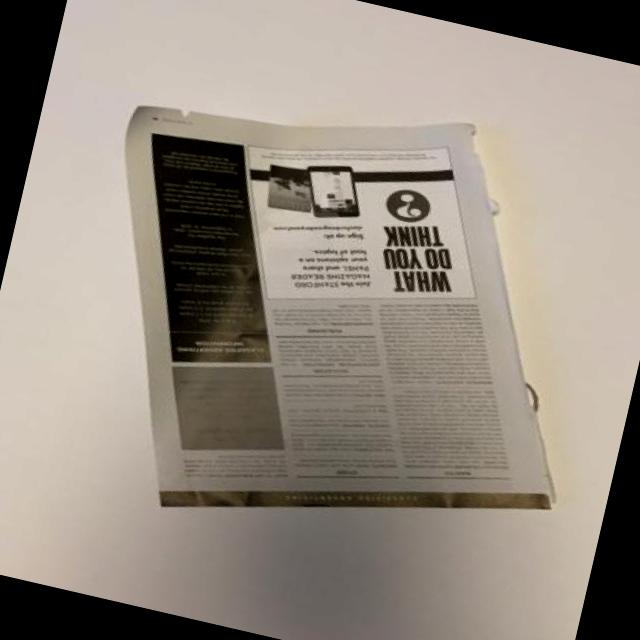paper: (77, 56, 600, 564)
